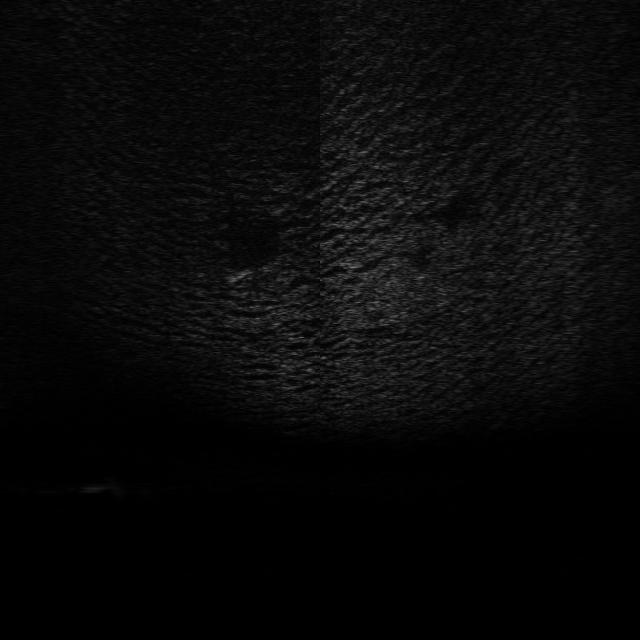plane: (224, 255, 297, 287)
